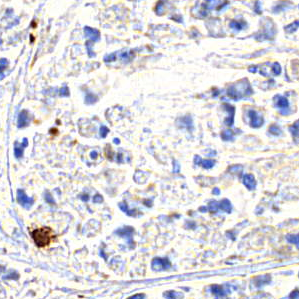Lymphocyte: (28, 224, 58, 250)
